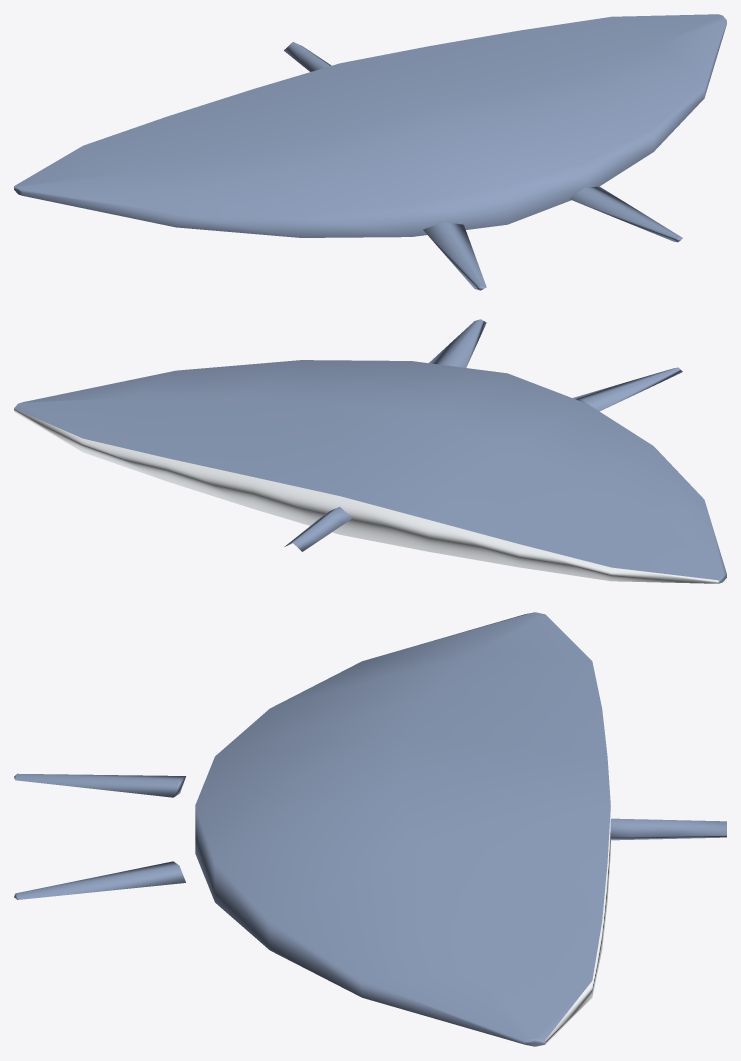
File: manta_far.glb
3 views of the same model, one above another, from view 1: azimuth 30°, elevation 25°; view 2: azimuth 150°, elevation 25°; view 3: azimuth 270°, elevation 25° (orthographic). The views are drawn at different scales.
Parts seen in each view (by area): view 1: manta_far; view 2: manta_far; view 3: manta_far.
Part boxes in pixels (x1,y1,x2,y2): manta_far: (14,14,726,290); manta_far: (14,319,726,583); manta_far: (14,612,726,1046).
Size of the model in its own units: 4.2 by 0.44 by 2.97.
